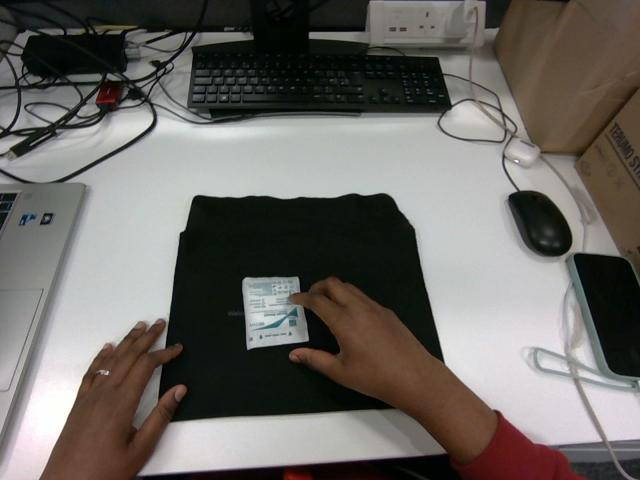gauze: (242, 277, 308, 349)
